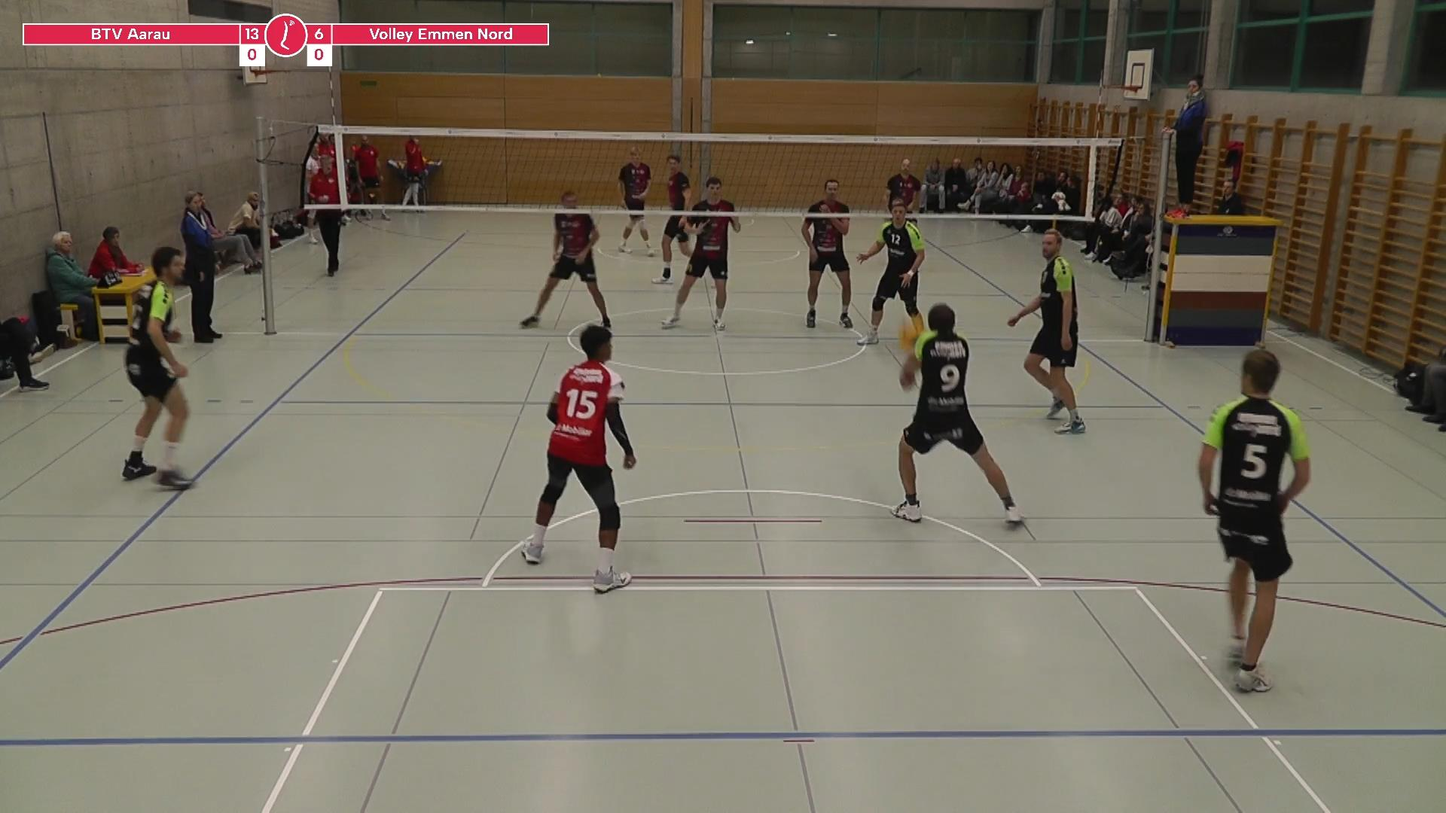ricezione: (879, 300, 1033, 540)
